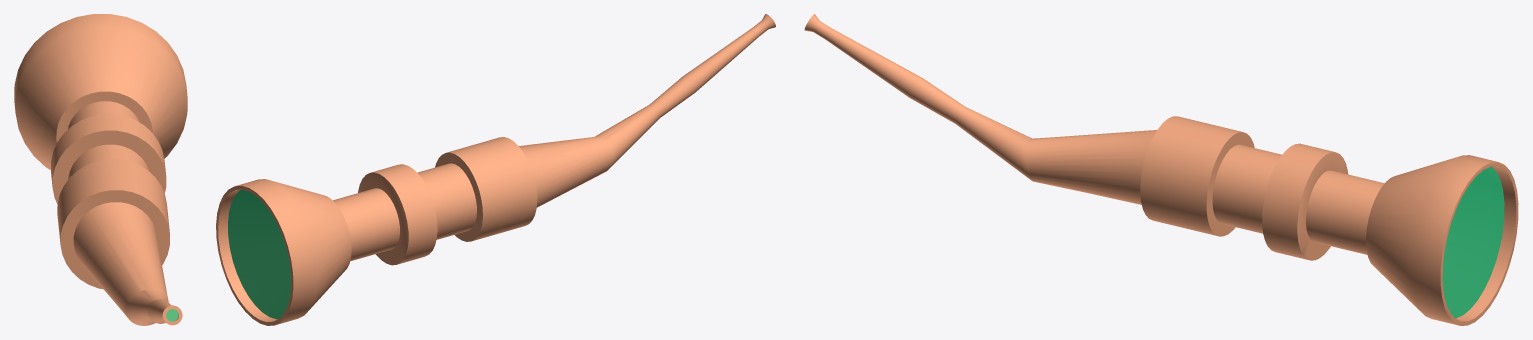
The model's file is Teleskop.fbx.
3 views of the same model, side by side, from view 1: azimuth 30°, elevation 25°; view 2: azimuth 150°, elevation 25°; view 3: azimuth 270°, elevation 25° (orthographic). The views are drawn at different scales.
Parts seen in each view (by area): view 1: Cylinder.001; view 2: Cylinder.001; view 3: Cylinder.001.
Boxes of the visible parts, x1,y1,x2,y2 form: Cylinder.001: (14,14,187,325); Cylinder.001: (216,14,775,325); Cylinder.001: (804,14,1518,325).
Bounding box in the file's own units: 723 × 363 × 1328.
